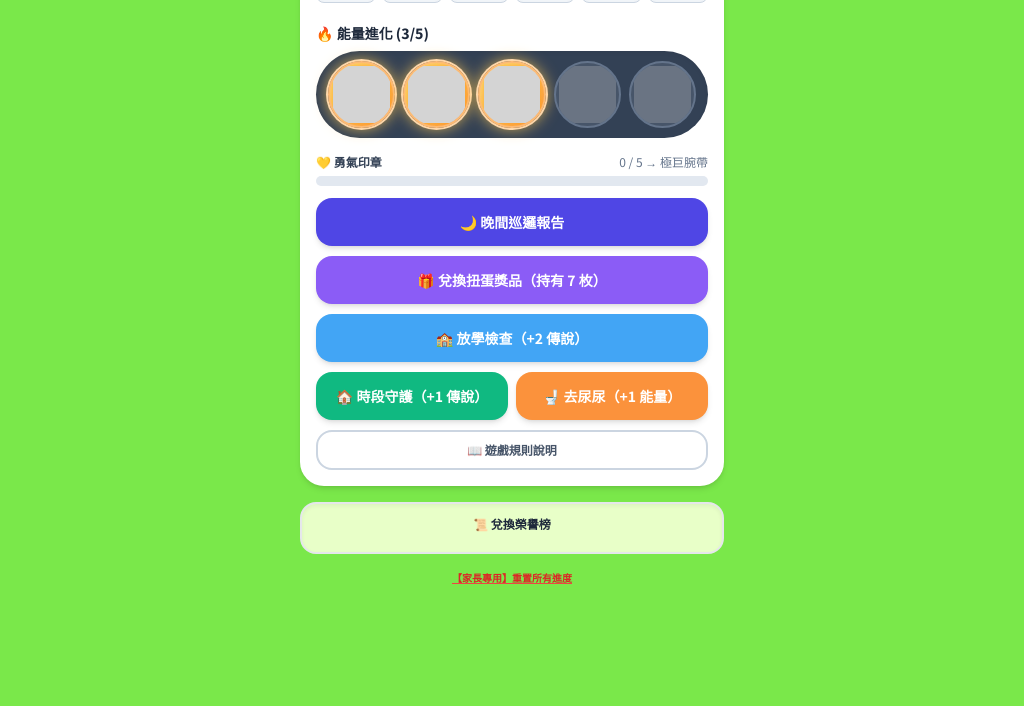
Scenario: DryPantsApp 重置按鈕：非樂觀更新 › resetCollectionState 成功 → 狀態清零並顯示成功訊息
(page scrolled)
Click the button "【家長專用】重置所有進度": (512, 577) 452,570 -> 572,585
(page scrolled)
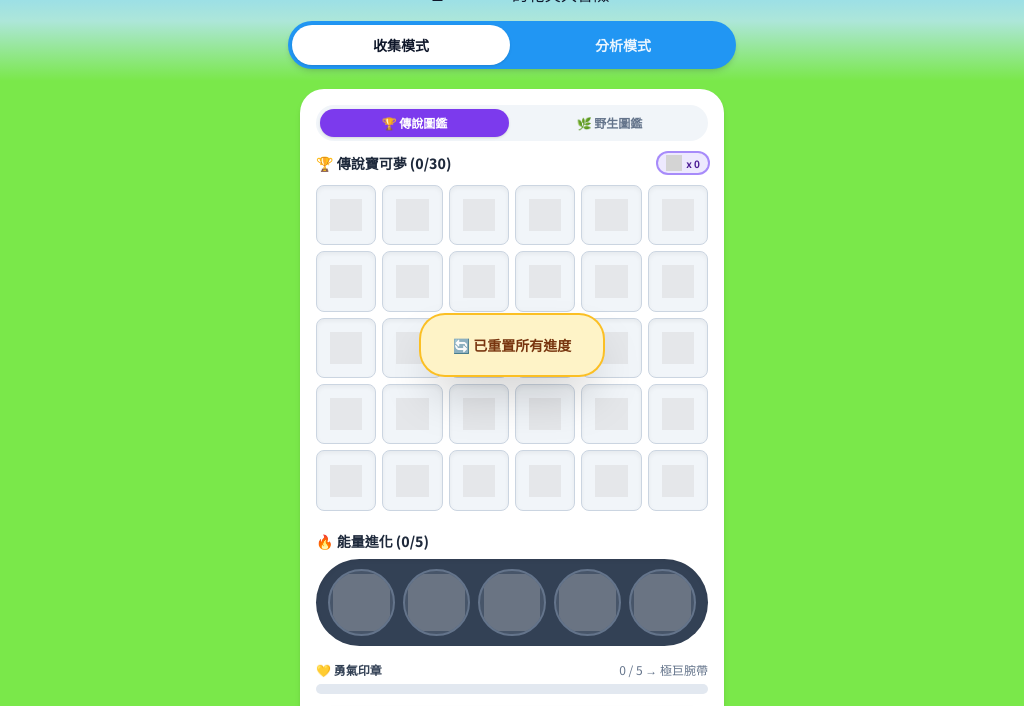
Expected: the text "🔄 已重置所有進度" is shown, 421,315 -> 603,375
Expected: the text "x 0" is shown, 658,153 -> 708,173
Expected: the heading "🏆 傳說寶可夢 (0/30)" is shown, 316,153 -> 451,173
